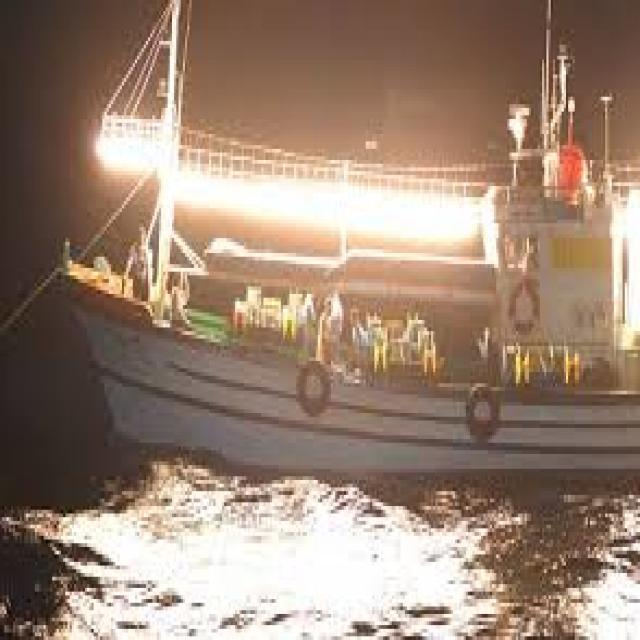Ship: (53, 1, 640, 507)
